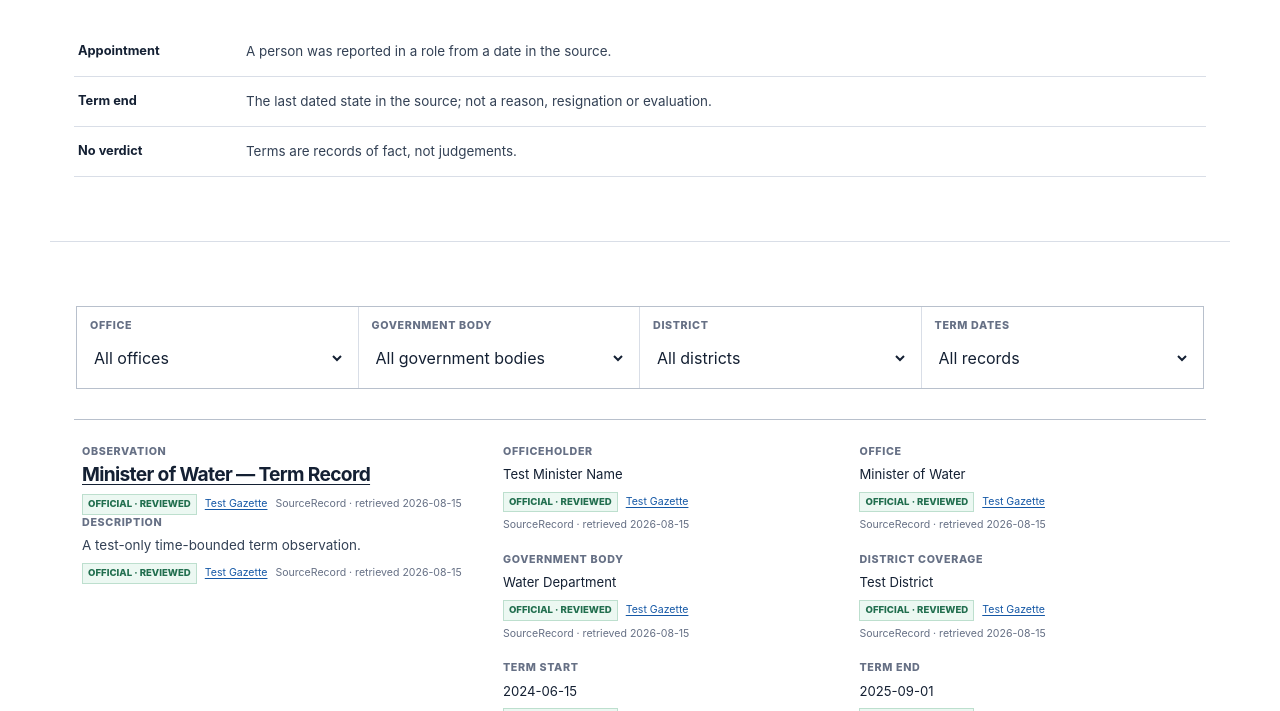
Test: OfficeholdersDirectory › renders bilingual claims, term dates and all native filters
The width and height of the screenshot is (1280, 711).
(page scrolled)
Check: the heading "Minister of Water — Term Record" is shown, box left=82, top=462, right=370, bottom=486
Check: the text "2024-06-15" is shown, box left=503, top=682, right=577, bottom=698
Select "Minister of Water" in the dropdown labelled "Office" at coordinates (217, 358), box left=90, top=339, right=344, bottom=377
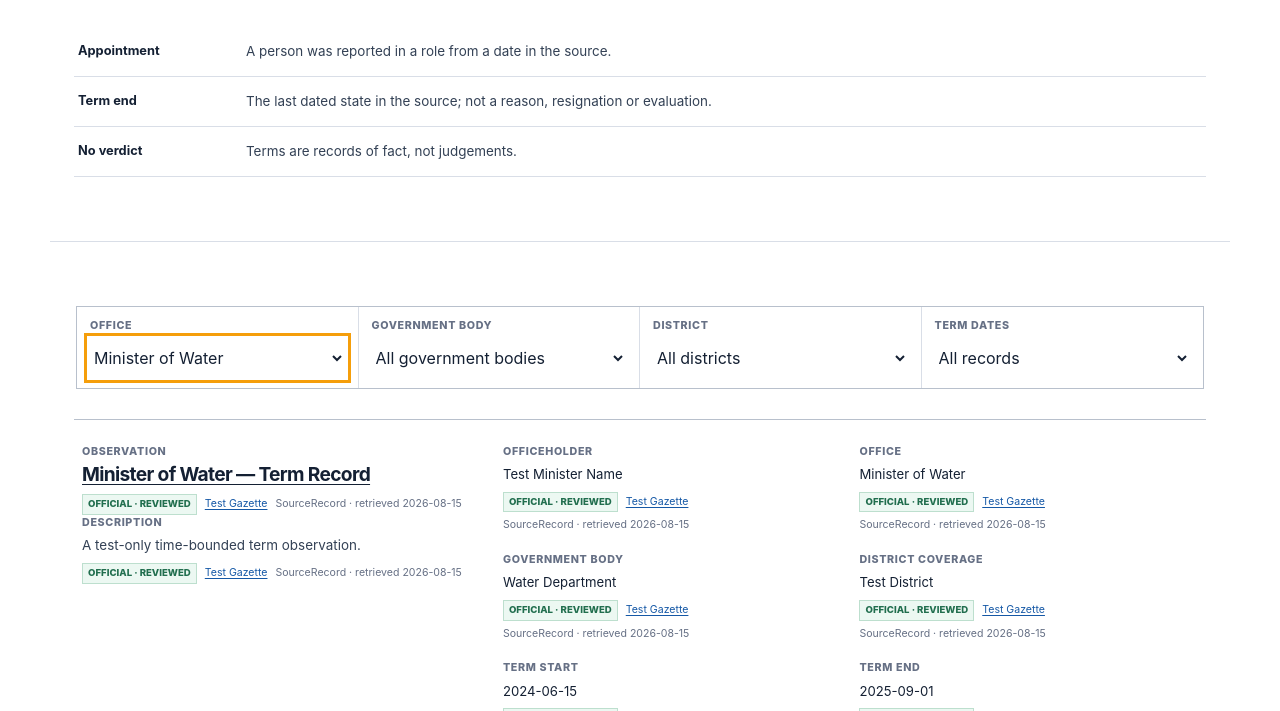
Select "Water Department" in the dropdown labelled "Government body" at coordinates (499, 358), box left=372, top=339, right=626, bottom=377
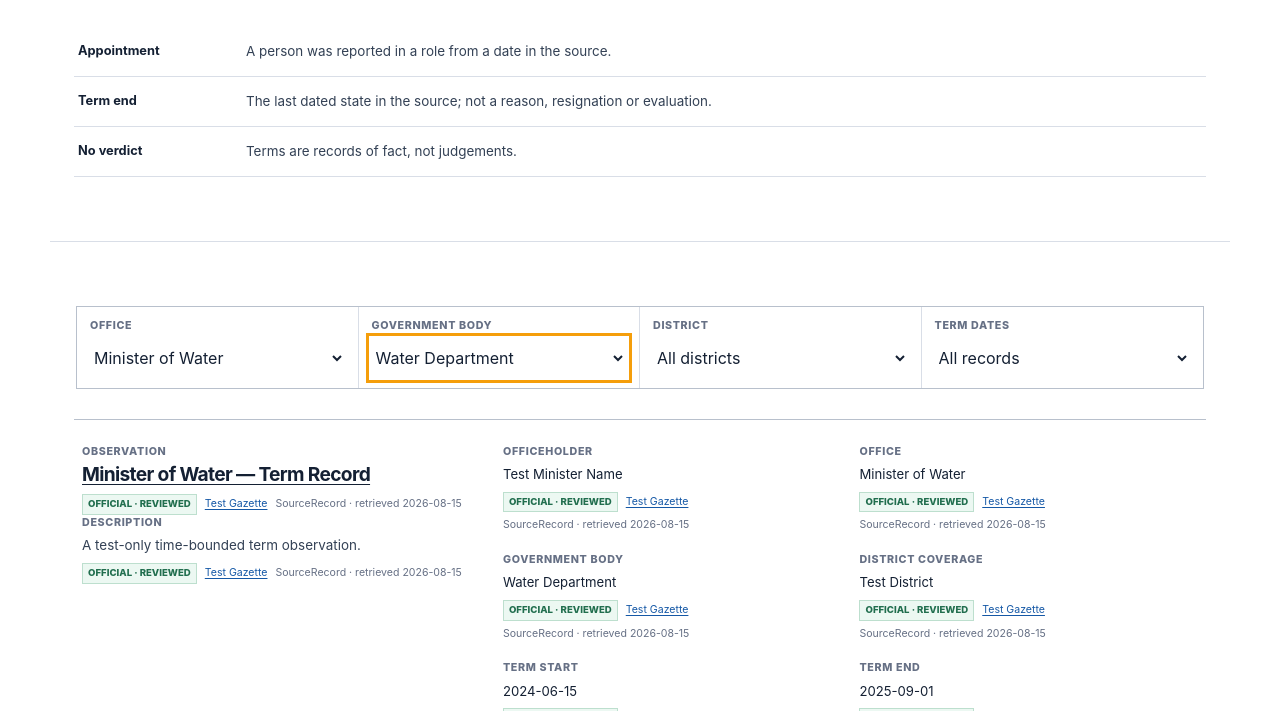
Select "Test District" in the dropdown labelled "District" at coordinates (780, 358), box left=653, top=339, right=908, bottom=377
(page scrolled)
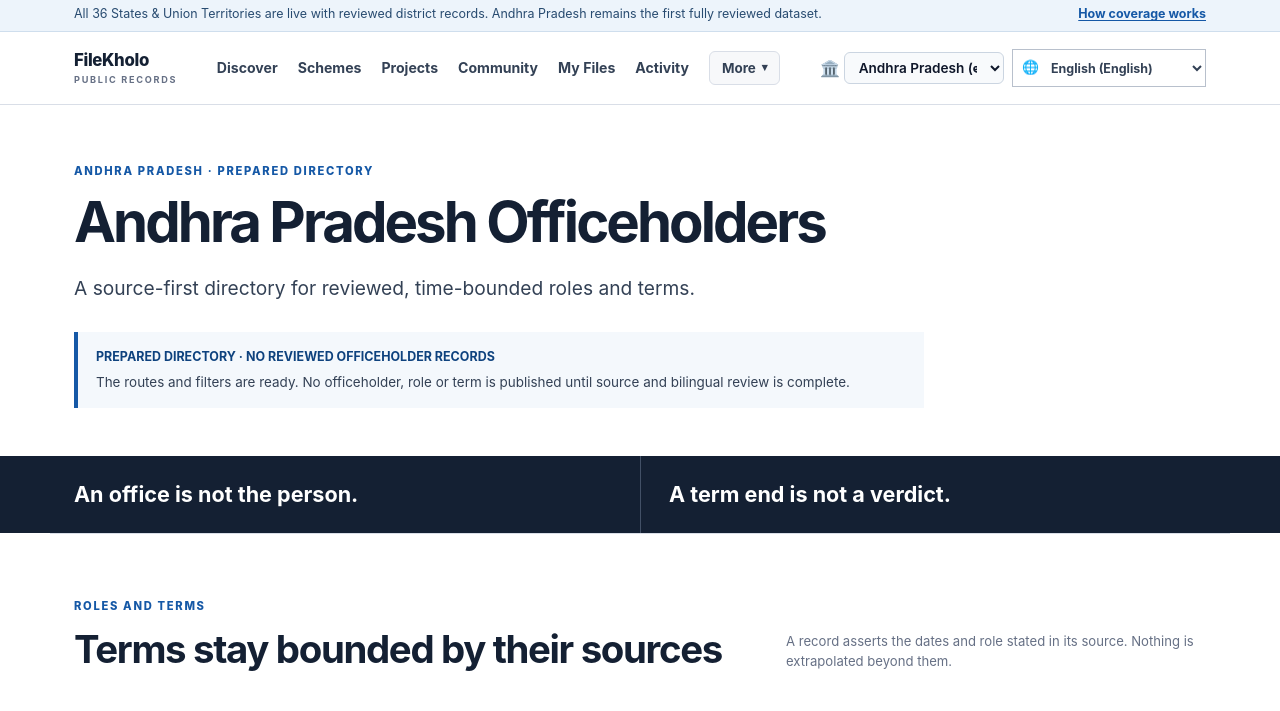
Select "తెలుగు (Telugu)" in the dropdown named "Select language" at coordinates (1122, 68), box left=1039, top=50, right=1205, bottom=86
(page scrolled)
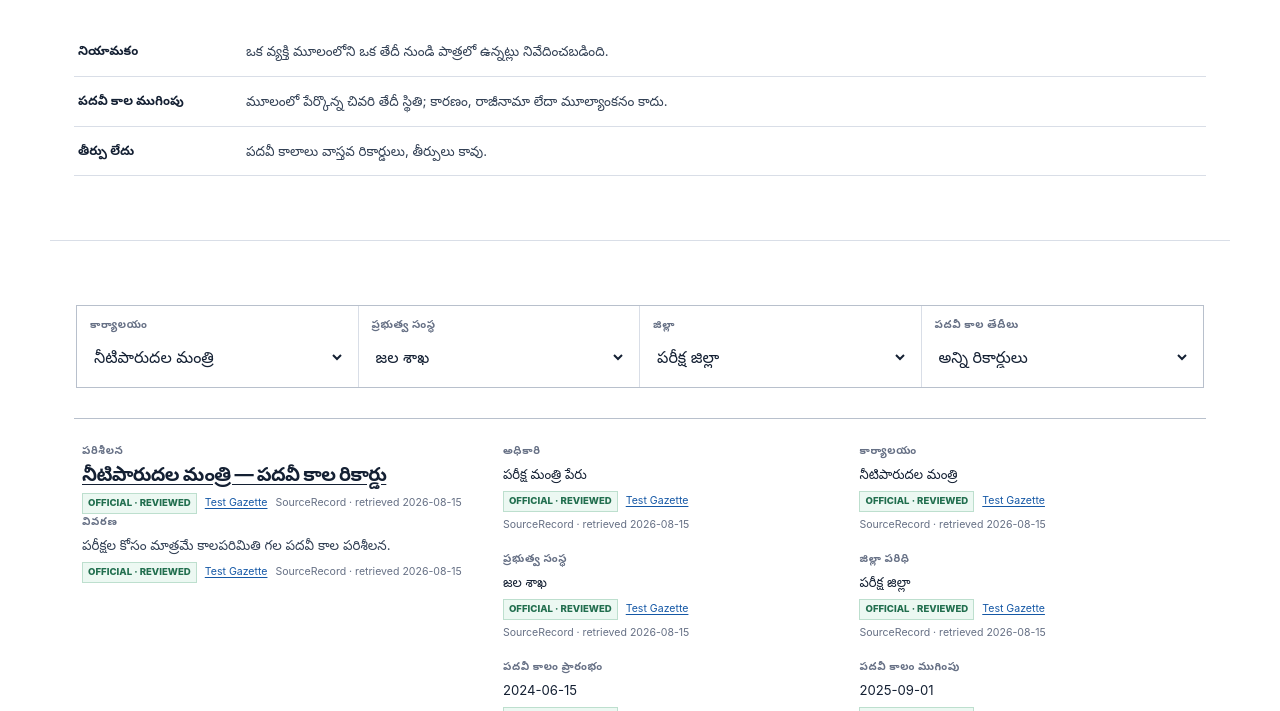
Check: the heading "నీటిపారుదల మంత్రి — పదవీ కాల రికార్డు" is shown, box left=82, top=462, right=386, bottom=486
